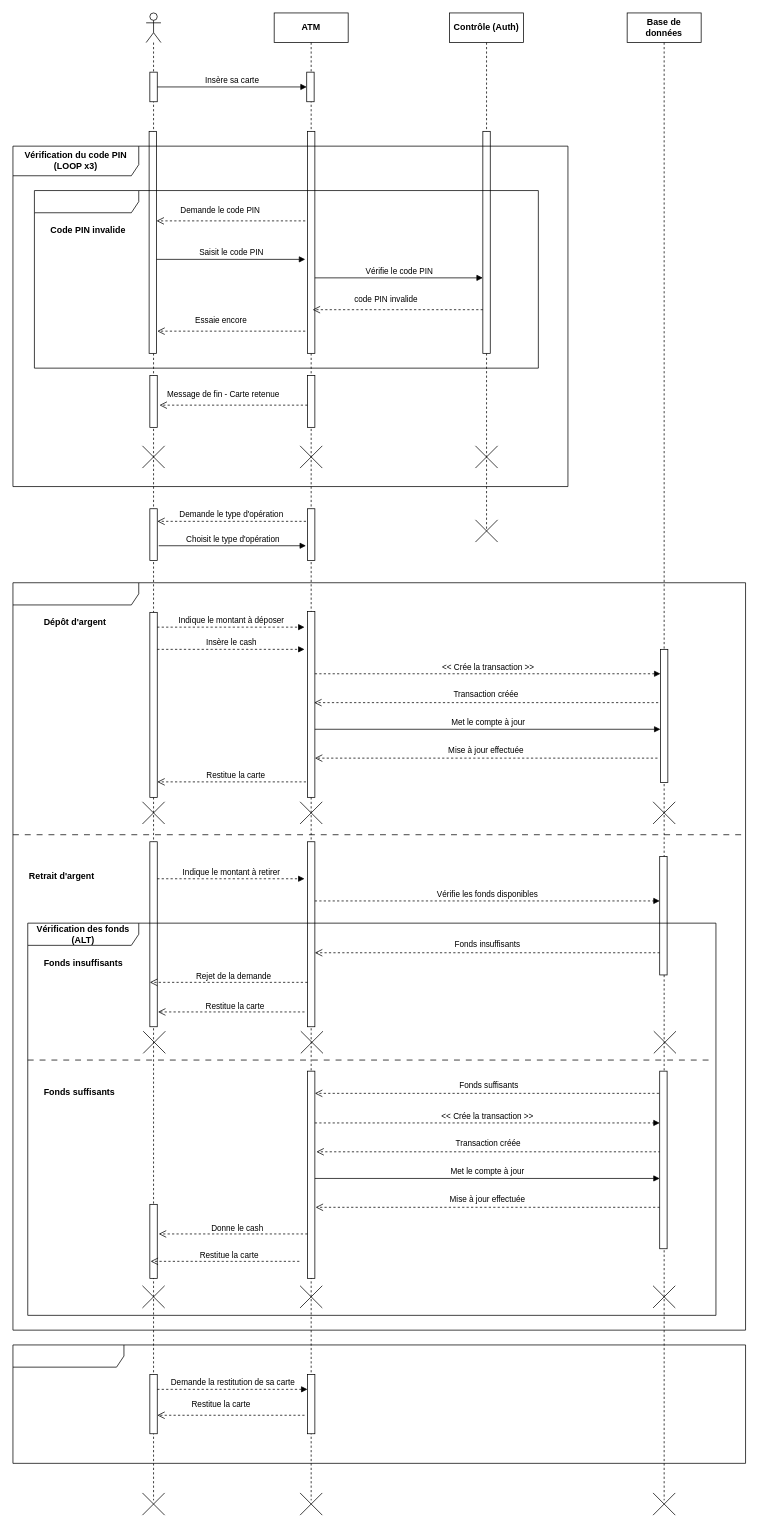
Image size: 759x1528. Some labels were removed from this diagram. The shapes that lost their labels are listed below. From the top down, each one's box as (x1, y1, x2, y2) in pixels, then its label:
(34, 190, 538, 368): OPT
(12, 582, 746, 1330): Type d'opération (ALT)
(12, 1344, 746, 1463): N'importe quand (PAR)
